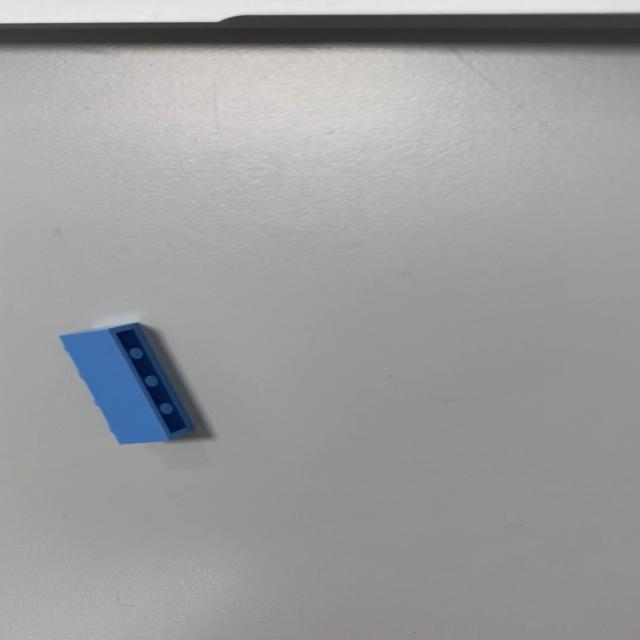C4x1x1: (57, 321, 195, 445)
